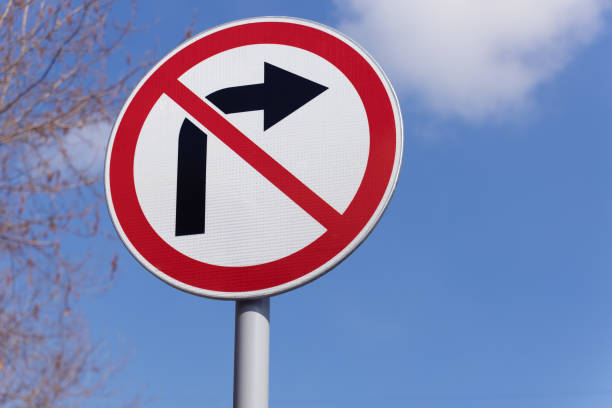saga_girilmez: (96, 18, 405, 286)
